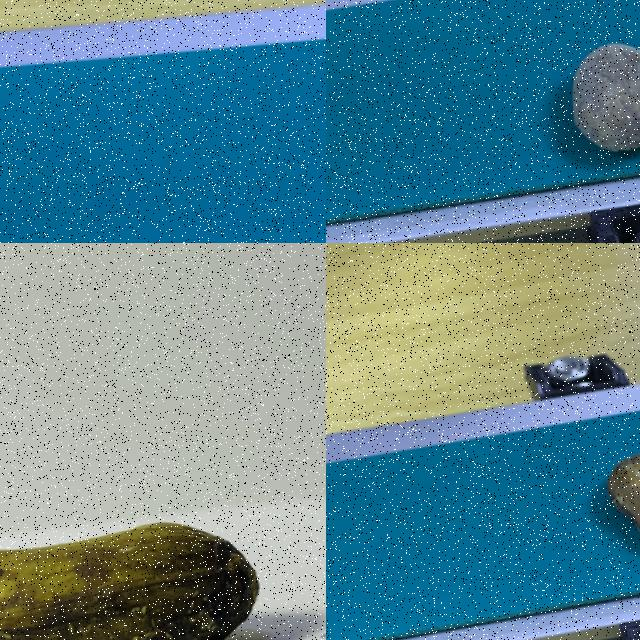Agglomerated_cocoabeans: (453, 7, 639, 219)
Fine_cocoabeans: (0, 472, 299, 639), (519, 428, 639, 604)
